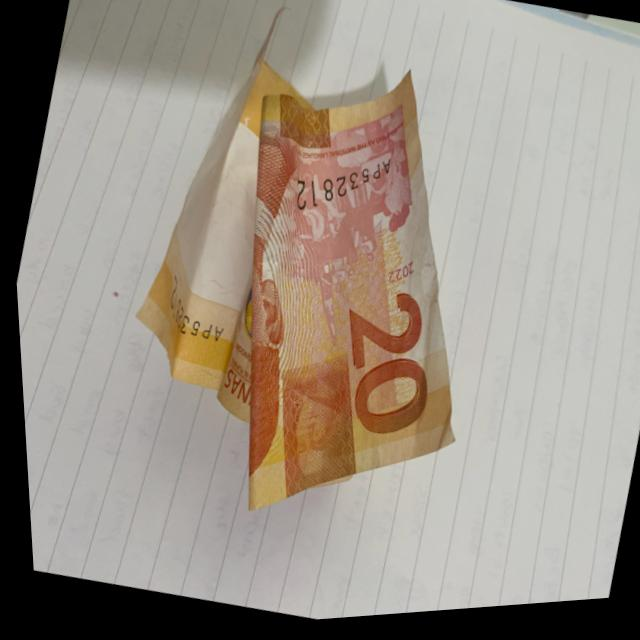concealed_value: (278, 361, 349, 503)
serial_number: (286, 152, 394, 223), (146, 268, 228, 354)
value: (336, 288, 430, 445)
